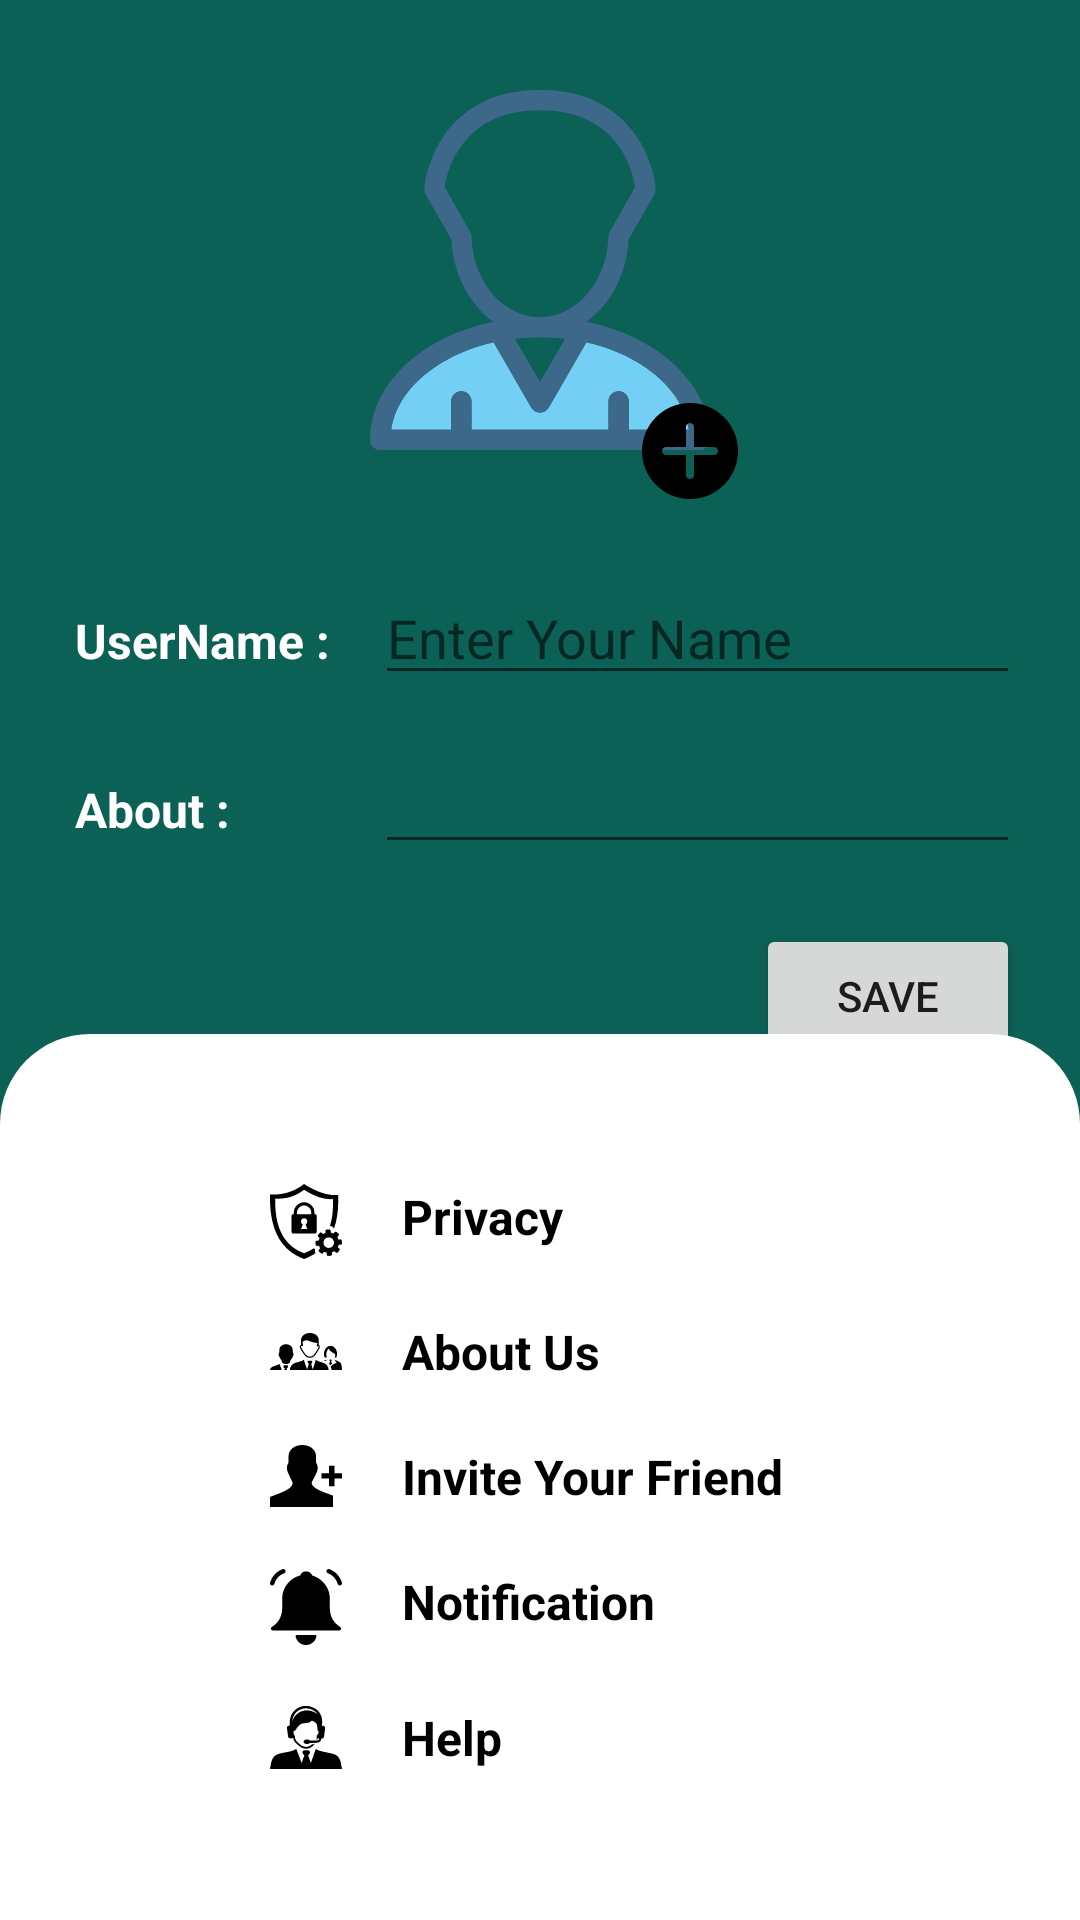

Locate icon controls on the screen. Image size 1080px×1920px, boxes as (x1=x1, y1=y1, x2=x2, y2=y2).
plus: (x1=630, y1=391, x2=738, y2=499)
